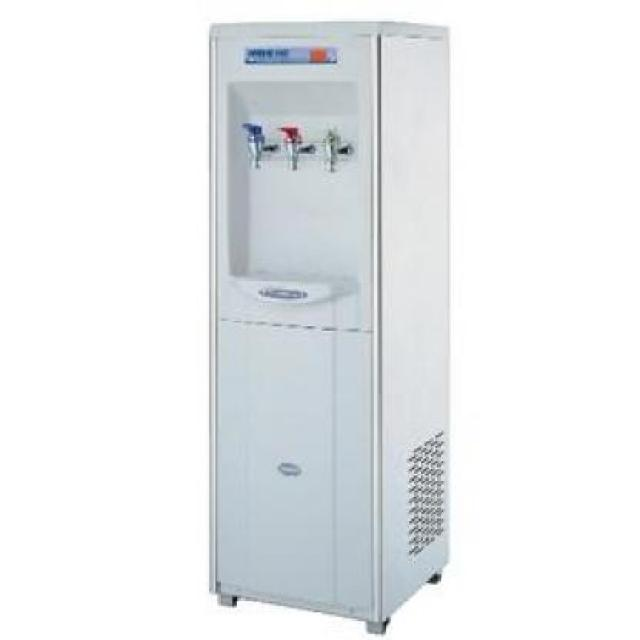cooler: (203, 14, 457, 638)
